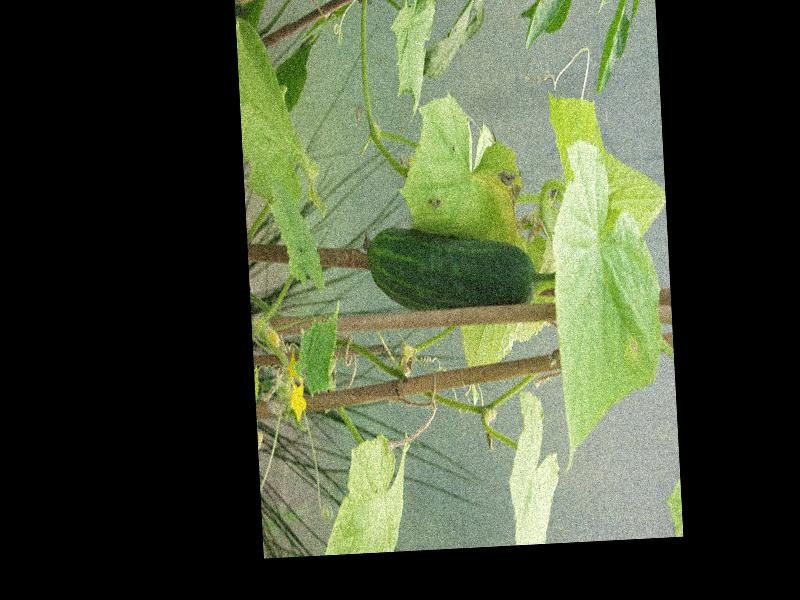Cucumber: (363, 218, 537, 314)
